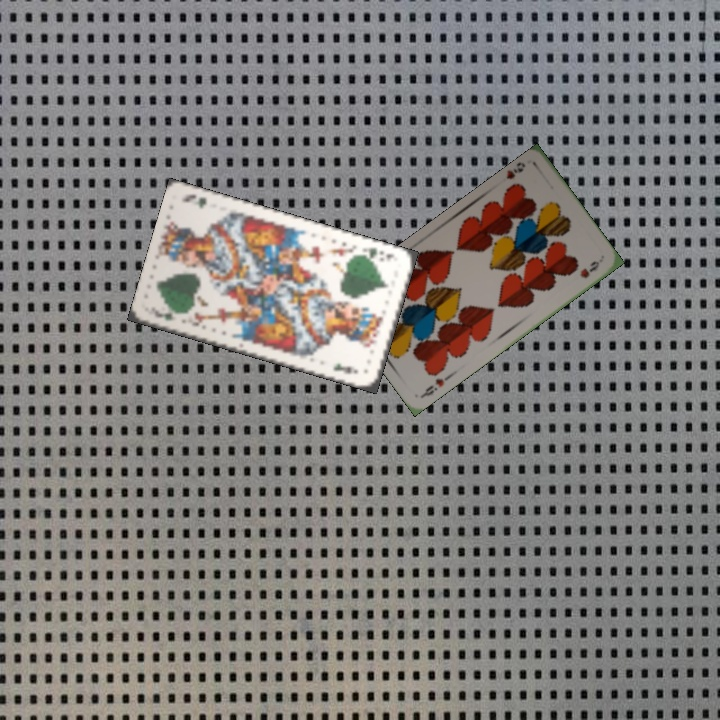GK: (358, 243, 399, 262), (156, 308, 184, 323)
H9: (418, 374, 447, 400), (502, 158, 528, 182)
